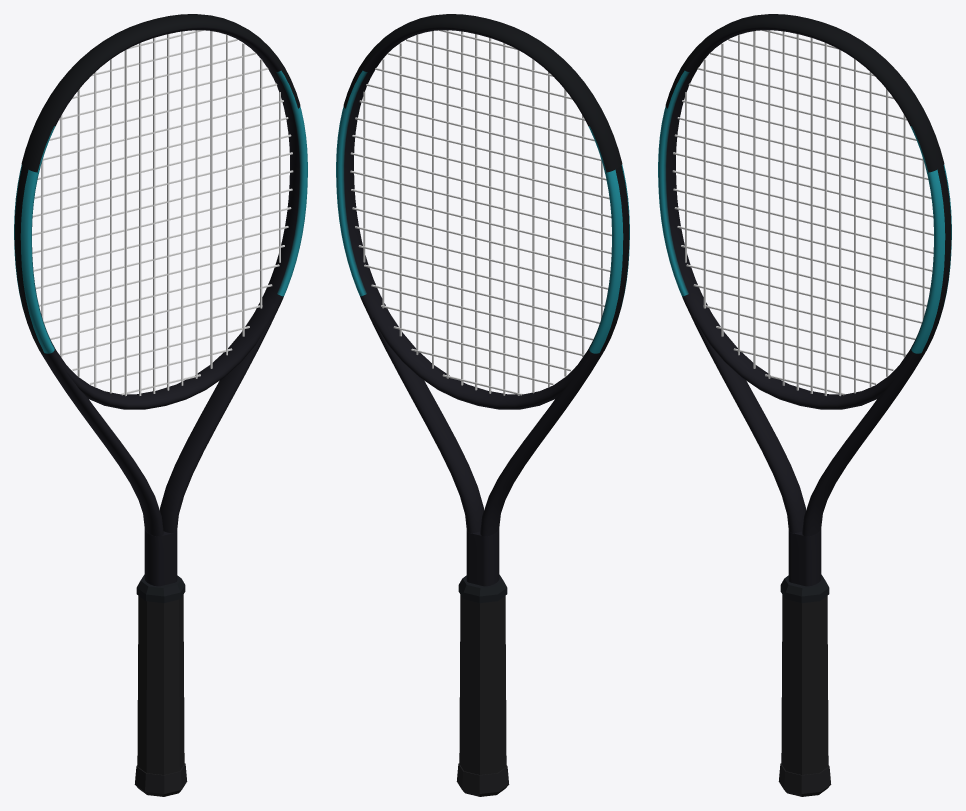
Rendered from head-gravity-mp-l-2025.glb.
3 views of the same model, side by side, from view 1: azimuth 30°, elevation 25°; view 2: azimuth 150°, elevation 25°; view 3: azimuth 330°, elevation 25° (orthographic).
Parts seen in each view (by area): view 1: frame, strings_mains, strings_crosses, grip, bumper, grommets, butt_cap, collar; view 2: frame, strings_mains, strings_crosses, grip, bumper, grommets, butt_cap, collar; view 3: frame, strings_mains, strings_crosses, grip, bumper, grommets, butt_cap, collar.
Boxes of the visible parts, <box> form: frame: <box>14,27,307,586</box>; strings_mains: <box>41,30,280,396</box>; strings_crosses: <box>32,30,293,395</box>; grip: <box>137,595,184,774</box>; bumper: <box>21,14,300,172</box>; grommets: <box>14,165,44,354</box>; butt_cap: <box>134,763,187,796</box>; collar: <box>136,574,185,602</box>; frame: <box>336,27,629,586</box>; strings_mains: <box>363,30,602,395</box>; strings_crosses: <box>350,30,611,395</box>; grip: <box>459,595,506,774</box>; bumper: <box>343,14,622,172</box>; grommets: <box>599,165,629,354</box>; butt_cap: <box>456,763,509,796</box>; collar: <box>458,574,507,602</box>; frame: <box>658,27,951,586</box>; strings_mains: <box>685,30,924,396</box>; strings_crosses: <box>672,30,933,395</box>; grip: <box>781,595,828,774</box>; bumper: <box>665,14,944,172</box>; grommets: <box>921,165,951,354</box>; butt_cap: <box>778,763,831,796</box>; collar: <box>780,574,829,602</box>.
Bounding box in the file's own units: 0.2696 × 0.6861 × 0.0396.
